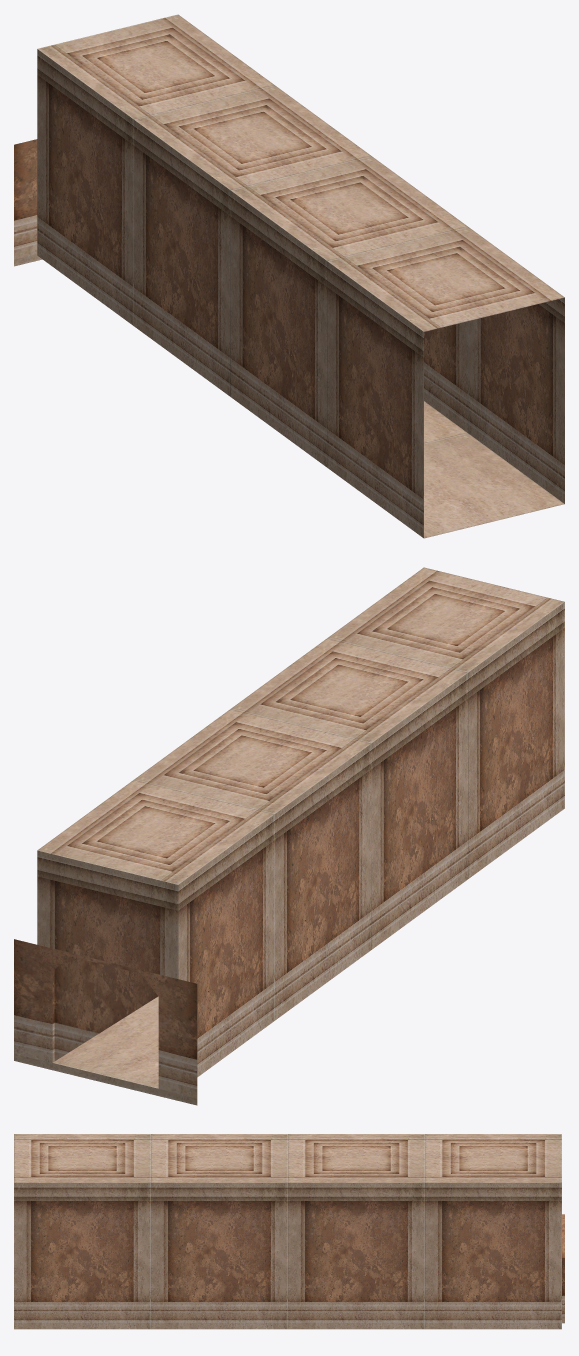
Rendered from thm_nboo_thed_emp_retreat_r9_hall4_mesh_r9_l2.fbx.
3 views of the same model, one above another, from view 1: azimuth 30°, elevation 25°; view 2: azimuth 150°, elevation 25°; view 3: azimuth 270°, elevation 25° (orthographic). The views are drawn at different scales.
Parts seen in each view (by area): view 1: mesh_node; view 2: mesh_node; view 3: mesh_node.
Boxes of the visible parts, box(x1,y1,x2,y2) form: mesh_node: box(14, 14, 564, 538); mesh_node: box(14, 567, 564, 1105); mesh_node: box(14, 1134, 564, 1329).
Bounding box in the file's own units: 5.2 × 5.8 × 19.1.
